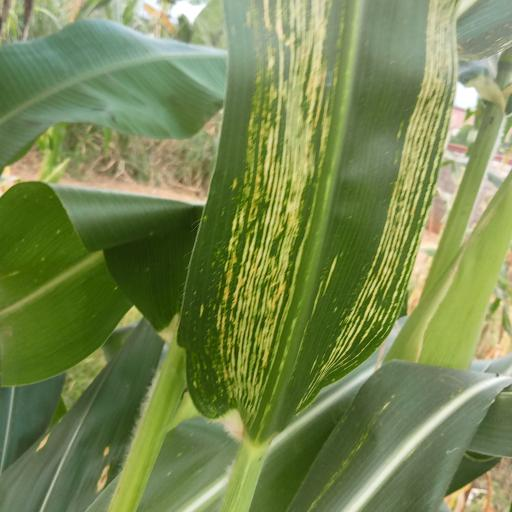Corn_Streak: (176, 0, 465, 445)
